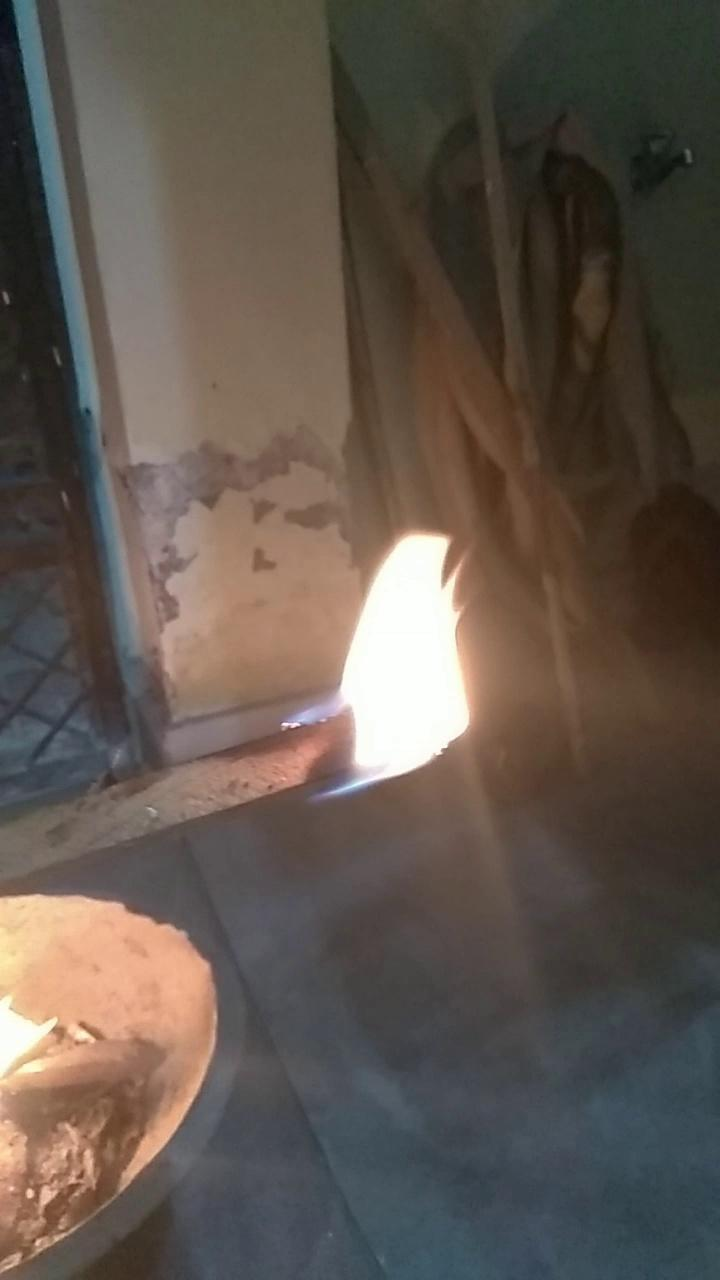fire: (273, 482, 481, 829), (1, 987, 54, 1100)
